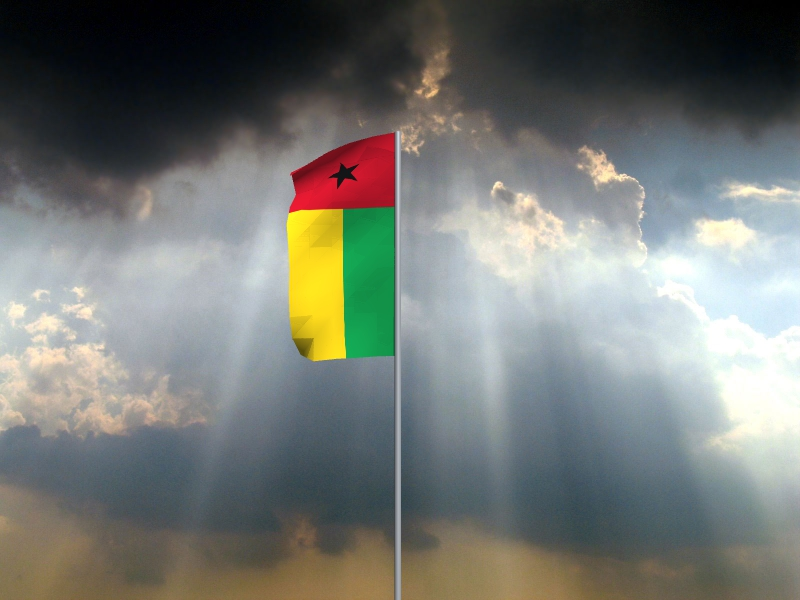gw: (286, 134, 395, 363)
